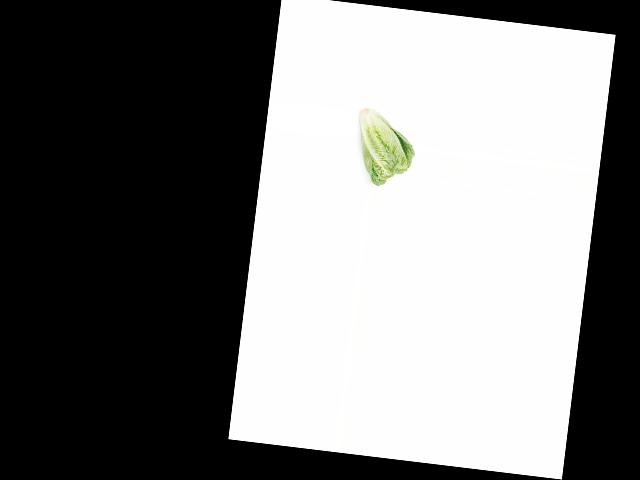lettuce: (350, 106, 419, 189)
